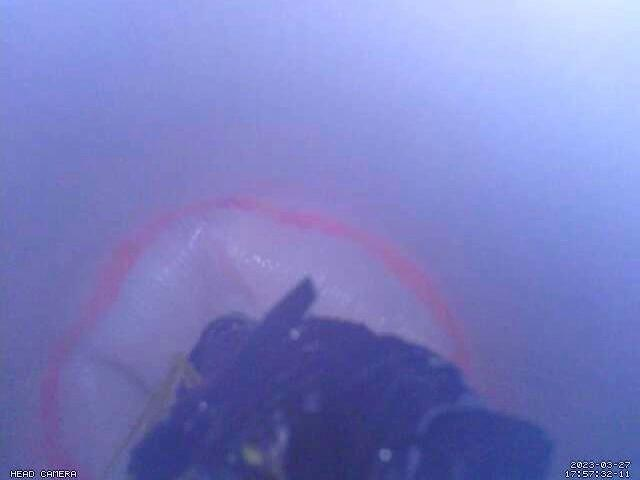head: (35, 194, 479, 480)
